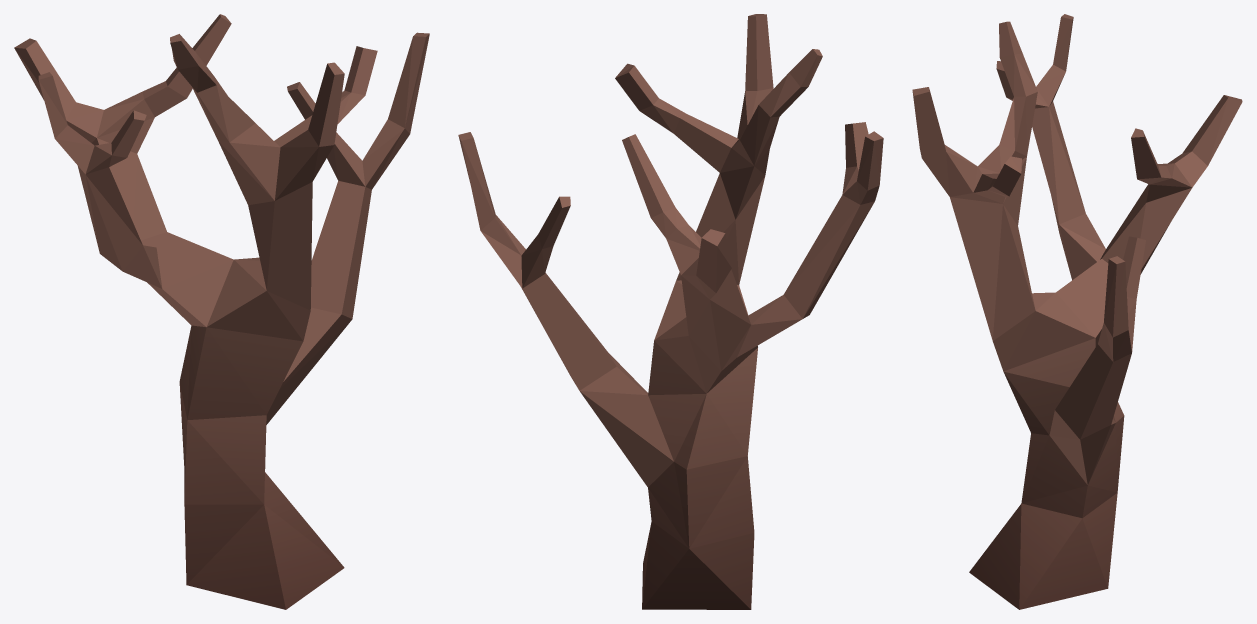
The model's file is OakBark1.fbx.
3 renders of one model, left to right at view 1: azimuth 30°, elevation 25°; view 2: azimuth 150°, elevation 25°; view 3: azimuth 270°, elevation 25°, orthographic. The views are drawn at different scales.
Parts seen in each view (by area): view 1: OakBark1; view 2: OakBark1; view 3: OakBark1.
Boxes of the visible parts, box(x1,y1,x2,y2) form: OakBark1: box(14, 14, 429, 609); OakBark1: box(458, 14, 883, 609); OakBark1: box(912, 14, 1242, 609).
Size of the model in its own units: 273 by 361 by 210.
